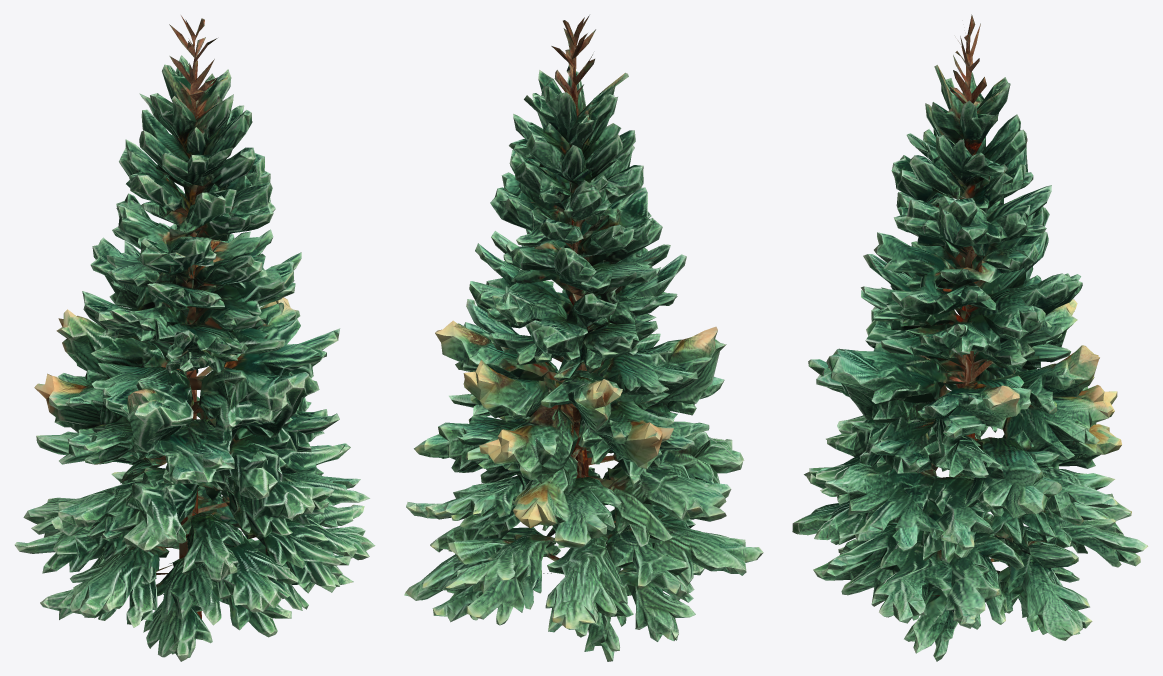
3 views of the same model, side by side, from view 1: azimuth 30°, elevation 25°; view 2: azimuth 150°, elevation 25°; view 3: azimuth 270°, elevation 25° (orthographic). The views are drawn at different scales.
Bounding box in the file's own units: 0.9725 × 1.79 × 0.9563.
1 material, 1 textured.
